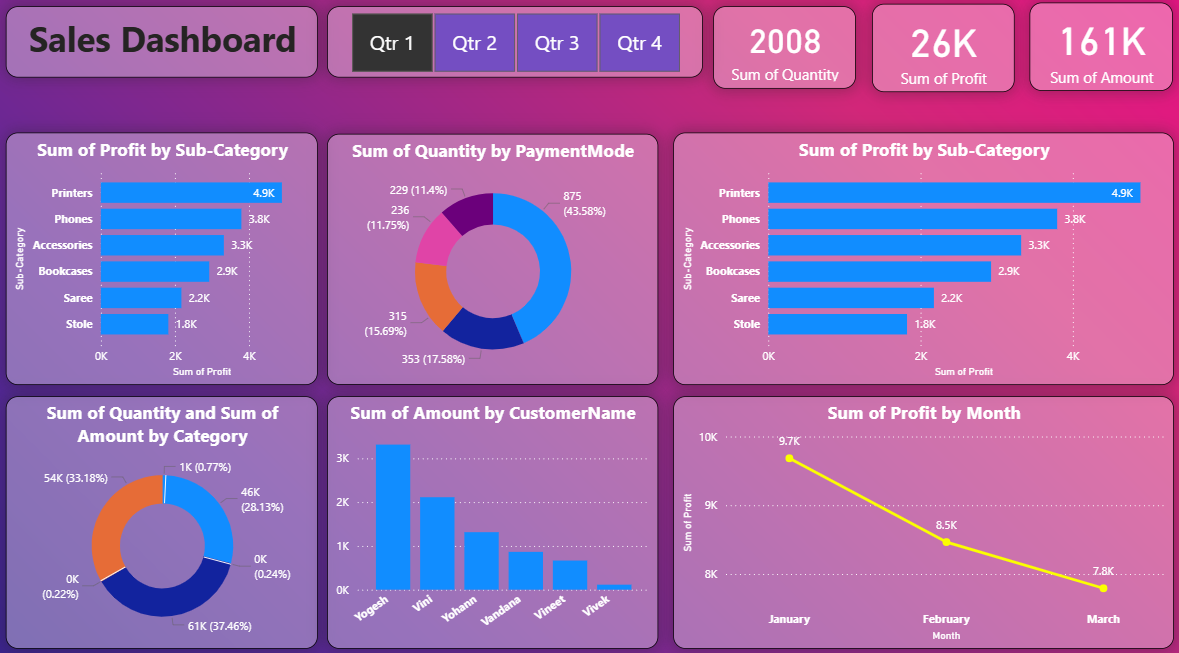

Layout of this report page (visuals, bound fields, positions):
{"tool":"powerbi","page":{"name":"Page 1","canvas":[1280,720],"ordinal":0},"visuals":[{"type":"textbox","box":[9.4,12.1,336.3,76.7],"z":0},{"type":"lineChart","fields":{"Category":["Orders.Order Date.Variation.Date Hierarchy.Month"],"Y":["Sum(Details.Profit)"]},"box":[727.7,431.8,539.4,271.7],"z":1000},{"type":"barChart","fields":{"Y":["Sum(Details.Profit)"],"Category":["Details.Sub-Category"]},"box":[727.7,148,539.4,271.7],"z":2000},{"type":"donutChart","fields":{"Y":["Sum(Details.Quantity)","Sum(Details.Amount)"],"Category":["Details.Category"]},"box":[9.4,431.8,336.3,271.7],"z":3000},{"type":"donutChart","fields":{"Y":["Sum(Details.Quantity)"],"Category":["Details.PaymentMode"]},"box":[355.1,149.3,356.5,270.4],"z":4000},{"type":"card","fields":{"Values":["Sum(Details.Amount)"]},"box":[1112.4,8.1,154.7,95.5],"z":5000},{"type":"card","fields":{"Values":["Sum(Details.Profit)"]},"box":[942.9,9.4,153.3,95.5],"z":6000},{"type":"card","fields":{"Values":["Sum(Details.Quantity)"]},"box":[770.7,12.1,153.3,88.8],"z":7000},{"type":"barChart","fields":{"Y":["Sum(Details.Profit)"],"Category":["Details.Sub-Category"]},"box":[9.4,148,336.3,271.7],"z":8000},{"type":"lineStackedColumnComboChart","fields":{"Category":["Orders.CustomerName"],"Y":["Sum(Details.Amount)"]},"box":[355.1,431.8,356.5,271.7],"z":9000},{"type":"slicer","fields":{"Values":["Orders.Order Date.Variation.Date Hierarchy.Quarter"]},"box":[355.1,12.1,404.9,76.7],"z":10000}]}

Visuals, with their boxes in screenshot pixels (x1, y1, x2, y2), scaled from the page's 1280x720 canvas onto the 1179x653 screenshot:
textbox: 9:11:318:81
lineChart - Orders.Order Date.Variation.Date Hierarchy.Month x Sum(Details.Profit): 670:392:1167:638
barChart - Sum(Details.Profit) x Details.Sub-Category: 670:134:1167:381
donutChart - Sum(Details.Quantity) x Sum(Details.Amount): 9:392:318:638
donutChart - Sum(Details.Quantity) x Details.PaymentMode: 327:135:655:381
card - Sum(Details.Amount): 1025:7:1167:94
card - Sum(Details.Profit): 868:9:1010:95
card - Sum(Details.Quantity): 710:11:851:92
barChart - Sum(Details.Profit) x Details.Sub-Category: 9:134:318:381
lineStackedColumnComboChart - Orders.CustomerName x Sum(Details.Amount): 327:392:655:638
slicer - Orders.Order Date.Variation.Date Hierarchy.Quarter: 327:11:700:81
